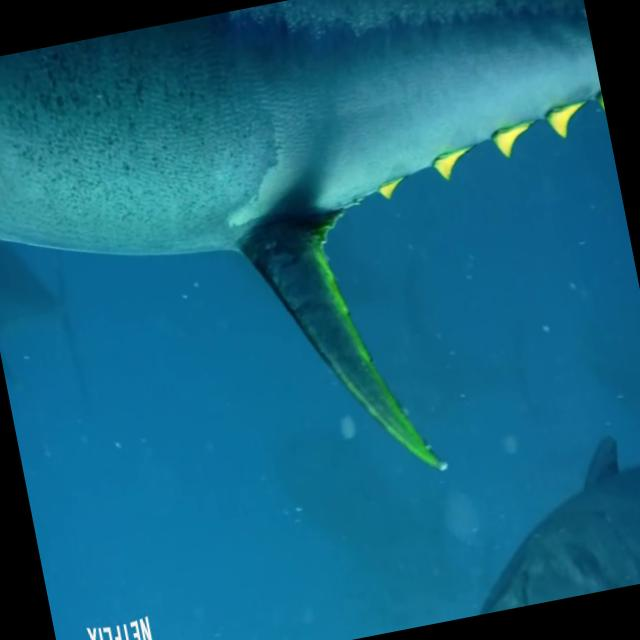fish: (0, 0, 640, 564), (449, 427, 640, 615)
